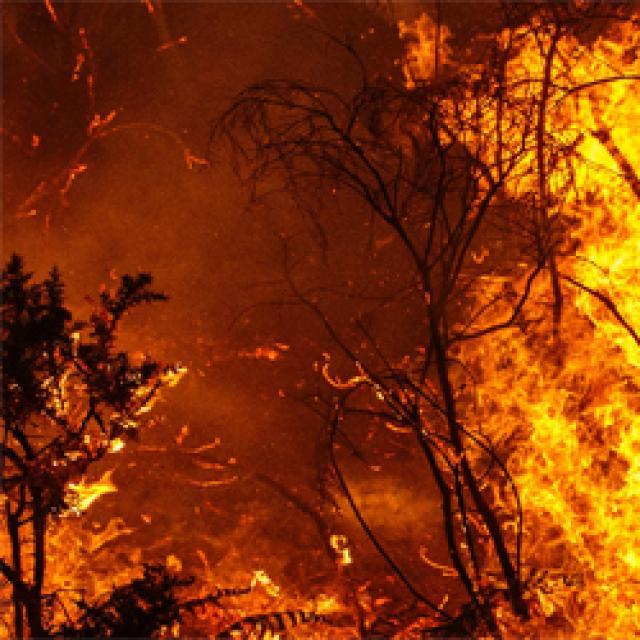Fire: (376, 0, 640, 640), (0, 274, 172, 640), (174, 519, 396, 640), (318, 330, 449, 440), (175, 319, 303, 383)
Smoke: (63, 0, 340, 401)
